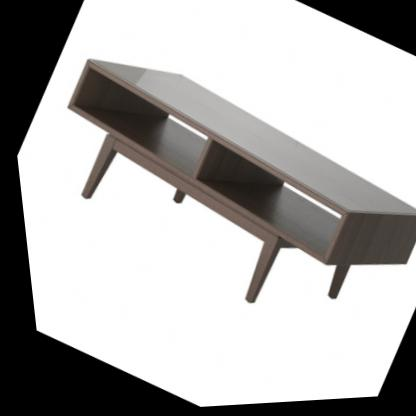Table: (3, 15, 416, 384)
